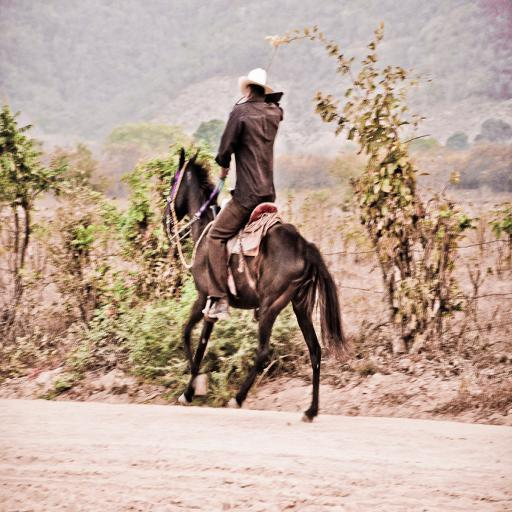horse: (160, 141, 348, 423)
